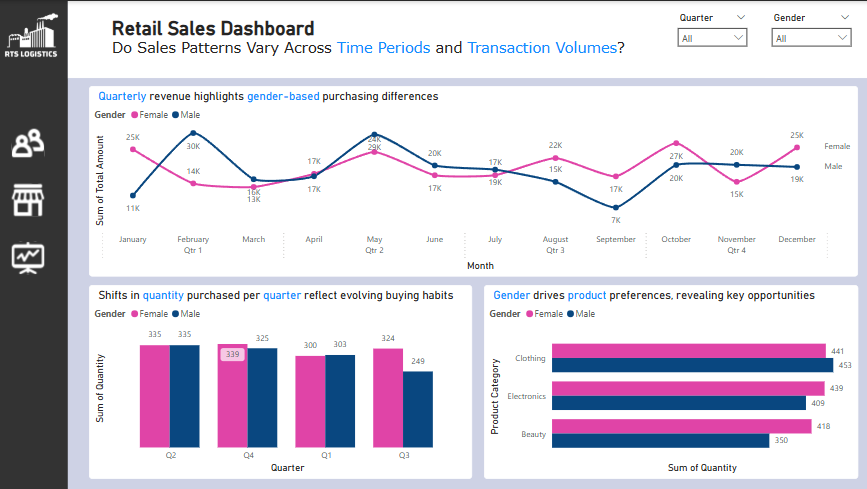

The page's visual inventory and layout, read from the dashboard file:
{"tool":"powerbi","page":{"name":"Sales pattens","canvas":[1280,720],"ordinal":2},"visuals":[{"type":"textbox","box":[104.3,0,1175.5,113.1],"z":0},{"type":"shape","box":[-0.3,0,104.3,720],"z":1000},{"type":"lineClusteredColumnComboChart","title":"  ","fields":{"Category":["retail_sales_dataset.Quarter"],"Y":["Sum(retail_sales_dataset.Quantity)"],"Series":["retail_sales_dataset.Gender"]},"box":[135.2,417.3,562.8,285.1],"z":2000},{"type":"clusteredBarChart","title":"  ","fields":{"Category":["retail_sales_dataset.Product Category"],"Y":["Sum(retail_sales_dataset.Quantity)"],"Series":["retail_sales_dataset.Gender"]},"box":[715.6,417.3,549.6,285.1],"z":3000},{"type":"lineChart","title":"   ","fields":{"Series":["retail_sales_dataset.Gender"],"Y":["Sum(retail_sales_dataset.Total Amount)"],"Category":["retail_sales_dataset.Date.Variation.Date Hierarchy.Quarter","retail_sales_dataset.Date.Variation.Date Hierarchy.Month"]},"box":[135,124.8,1129.6,280.3],"z":4000},{"type":"textbox","box":[135.2,417.3,564.2,30.9],"z":5000},{"type":"textbox","box":[135.2,124.9,667.1,41.1],"z":6000},{"type":"textbox","box":[715.6,417.3,564.2,30.9],"z":7000},{"type":"slicer","fields":{"Values":["retail_sales_dataset.Gender"]},"box":[1128.5,11.8,136.7,101.4],"z":8000},{"type":"slicer","fields":{"Values":["retail_sales_dataset.Quarter"]},"box":[990.4,11.8,122,77.9],"z":9000},{"type":"actionButton","box":[17.6,180.7,67.6,55.8],"z":10000},{"type":"actionButton","box":[17.6,349.7,67.6,55.8],"z":11000},{"type":"actionButton","box":[17.6,264.5,67.6,55.8],"z":12000},{"type":"image","box":[2.9,0,95.5,99.9],"z":13000}]}

Visuals, with their boxes in screenshot pixels (x1, y1, x2, y2), scaled from the page's 1280x720 canvas onto the 867x489 screenshot:
textbox: bbox=[71, 0, 866, 77]
shape: bbox=[0, 0, 70, 488]
"  " lineClusteredColumnComboChart: bbox=[92, 283, 473, 477]
"  " clusteredBarChart: bbox=[485, 283, 857, 477]
"   " lineChart: bbox=[91, 85, 857, 275]
textbox: bbox=[92, 283, 474, 304]
textbox: bbox=[92, 85, 543, 113]
textbox: bbox=[485, 283, 866, 304]
slicer - retail_sales_dataset.Gender: bbox=[764, 8, 857, 77]
slicer - retail_sales_dataset.Quarter: bbox=[671, 8, 753, 61]
actionButton: bbox=[12, 123, 58, 161]
actionButton: bbox=[12, 238, 58, 275]
actionButton: bbox=[12, 180, 58, 218]
image: bbox=[2, 0, 67, 68]
